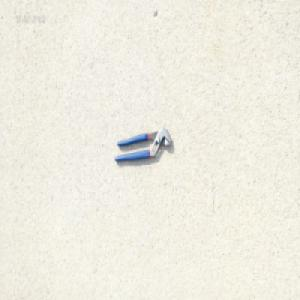Pliers: (113, 126, 172, 164)
